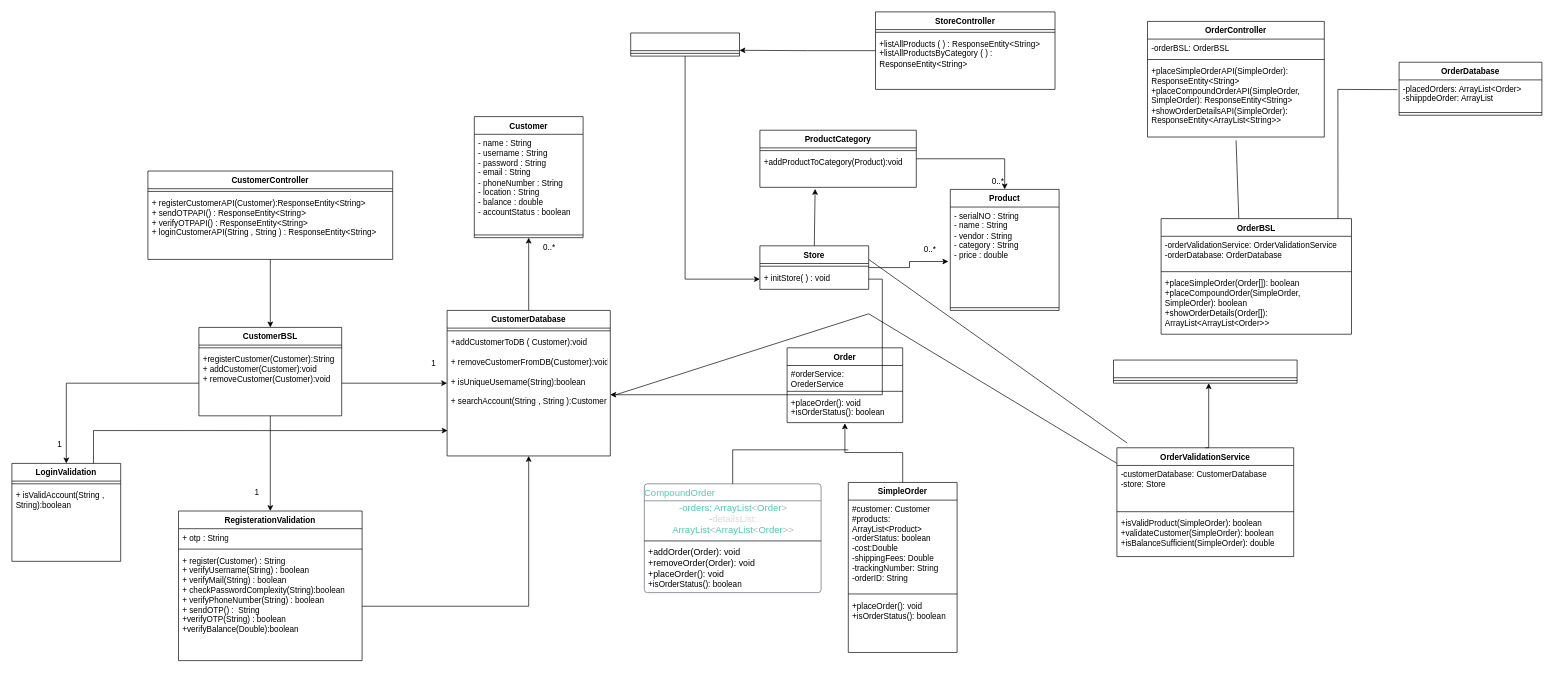
Image size: 1554x675. Some labels were removed from this diagram. The shapes that lost their labels are listed below. From the top down, each one's centre as x and y in pixels, then its label:
point (685, 44): StoreBSL
point (1205, 371): OrderService
